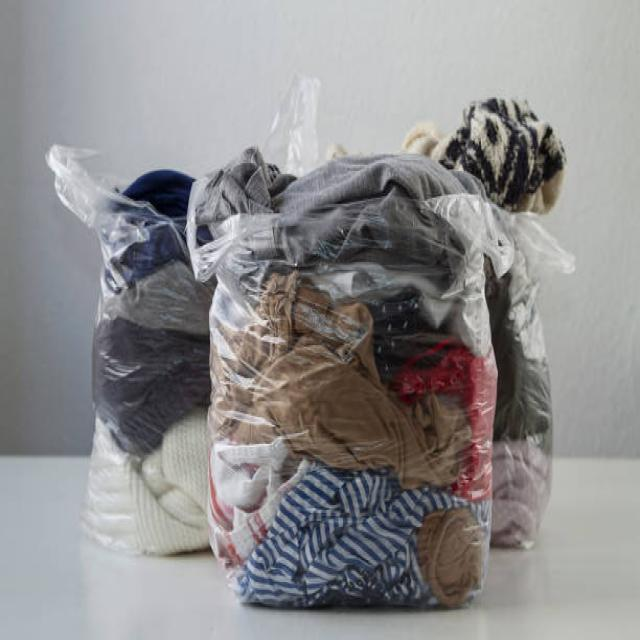trash: (70, 156, 569, 614)
